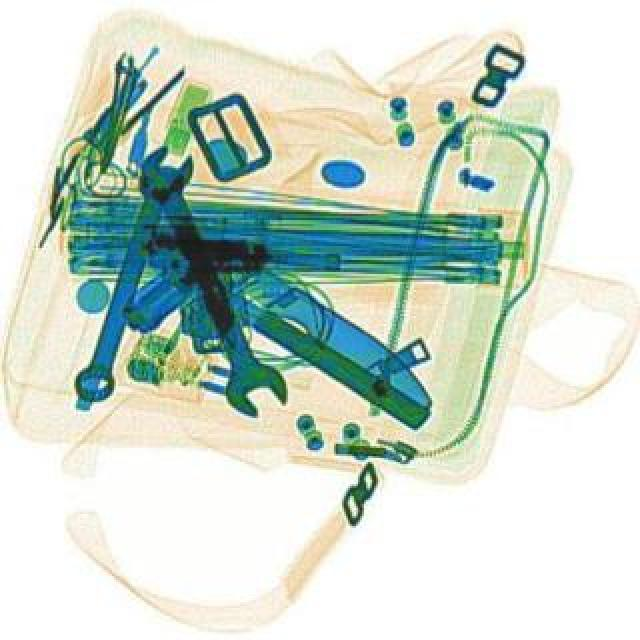gun: (118, 220, 342, 356)
knife: (136, 228, 432, 428), (186, 204, 442, 424)
scissors: (124, 154, 292, 422), (58, 142, 198, 408)
